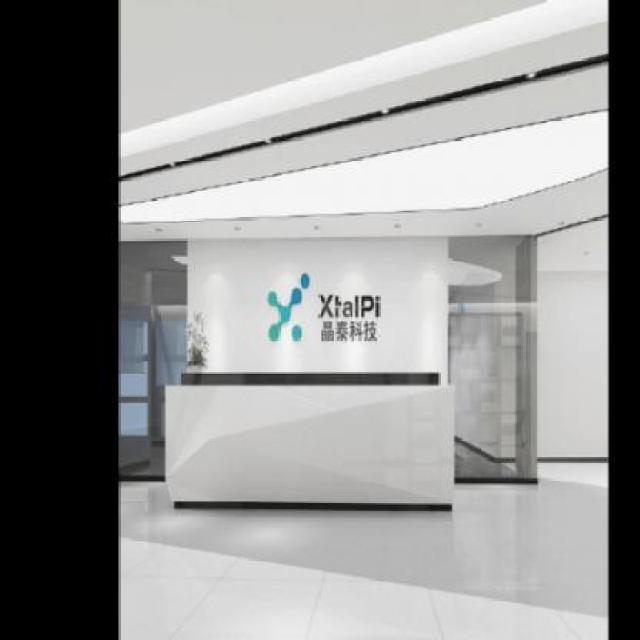frontdesk: (162, 357, 464, 521)
